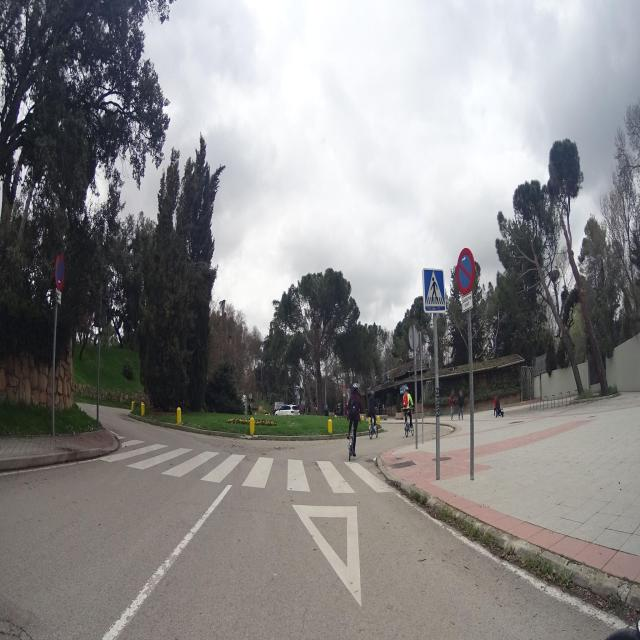forb_stopping: (456, 248, 475, 296), (55, 255, 65, 290)
